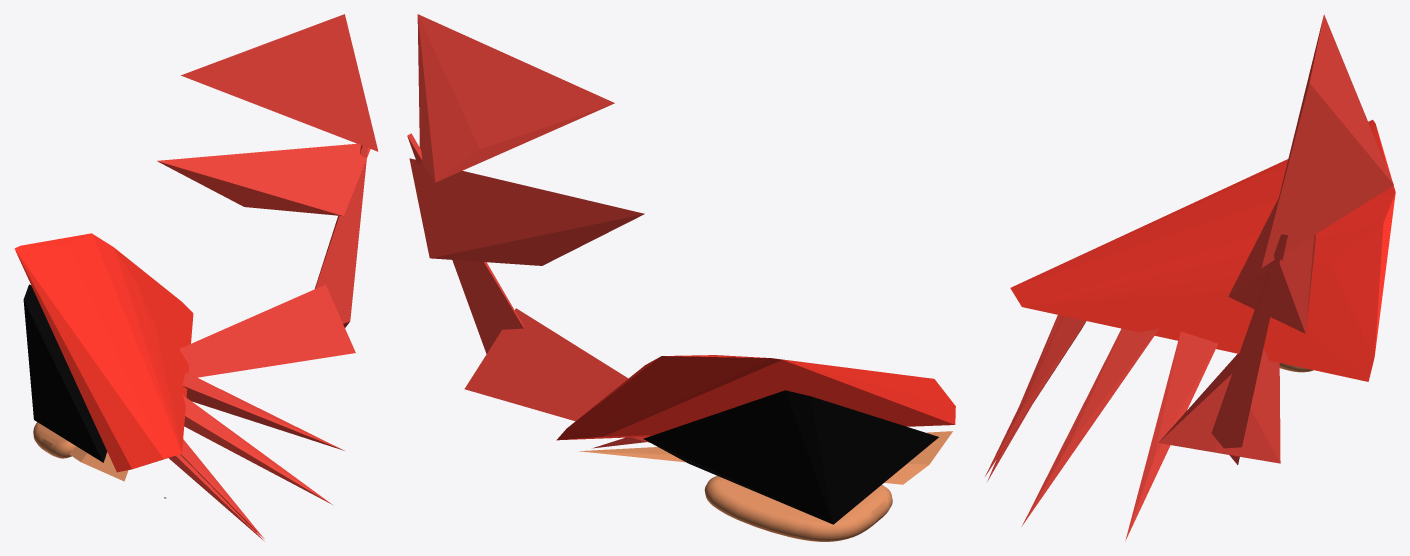
File: crab_half.obj
3 views of the same model, side by side, from view 1: azimuth 30°, elevation 25°; view 2: azimuth 150°, elevation 25°; view 3: azimuth 270°, elevation 25° (orthographic). The views are drawn at different scales.
Visible parts, largest first — view 1: s.0050, s.0071, s.0070, s.0068, s.0108, s.0069, s.0074, s.0073, s.0072, s.0065, s.0075, s.0063; view 2: s.0108, s.0050, s.0071, s.0070, s.0068, s.0065, s.0069, s.0063; view 3: s.0050, s.0071, s.0068, s.0070, s.0069, s.0073, s.0074, s.0072, s.0075.
Boxes of the visible parts, bbox=[...] form: s.0050: bbox=[14, 233, 193, 472]; s.0071: bbox=[181, 14, 378, 151]; s.0070: bbox=[157, 143, 370, 216]; s.0068: bbox=[179, 284, 355, 377]; s.0108: bbox=[23, 284, 107, 462]; s.0069: bbox=[315, 145, 367, 327]; s.0074: bbox=[183, 395, 332, 504]; s.0073: bbox=[182, 372, 344, 450]; s.0072: bbox=[180, 439, 263, 538]; s.0065: bbox=[33, 422, 75, 458]; s.0075: bbox=[169, 454, 264, 541]; s.0063: bbox=[69, 446, 128, 481]; s.0108: bbox=[643, 390, 938, 524]; s.0050: bbox=[556, 355, 955, 440]; s.0071: bbox=[417, 14, 614, 182]; s.0070: bbox=[409, 158, 644, 265]; s.0068: bbox=[464, 308, 649, 442]; s.0065: bbox=[704, 476, 892, 541]; s.0069: bbox=[407, 133, 524, 353]; s.0063: bbox=[579, 431, 952, 484]; s.0050: bbox=[1010, 119, 1395, 381]; s.0071: bbox=[1261, 14, 1393, 267]; s.0068: bbox=[1158, 348, 1280, 463]; s.0070: bbox=[1228, 198, 1315, 333]; s.0069: bbox=[1211, 234, 1287, 464]; s.0073: bbox=[1125, 331, 1217, 541]; s.0074: bbox=[1022, 328, 1158, 525]; s.0072: bbox=[985, 316, 1086, 476]; s.0075: bbox=[987, 315, 1062, 481].
Bounding box in the file's own units: 0.6717 × 0.7226 × 0.5067.
